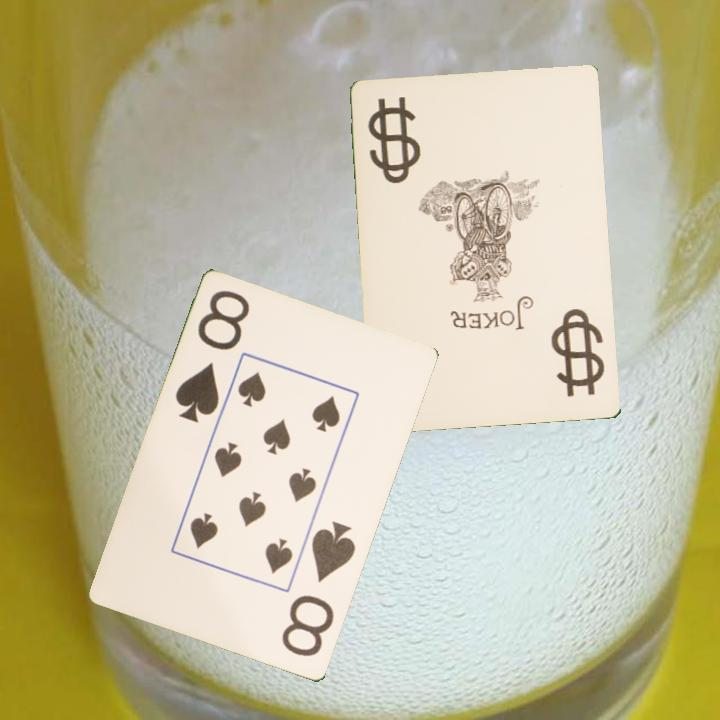8s: (278, 518, 359, 661), (172, 287, 253, 426)
JK: (364, 94, 416, 187), (564, 312, 603, 384)
